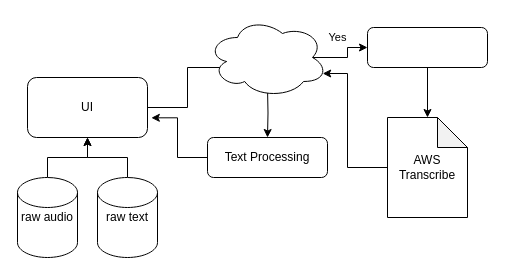
The diagram is 505 pixels wide and 275 high, and some of its shapes have lost their labels. The box of each missing label's shape, as (x1, y1, x2, y2) in pixels:
Audio: (366, 26, 488, 68)
AWS S3: (206, 16, 328, 98)
